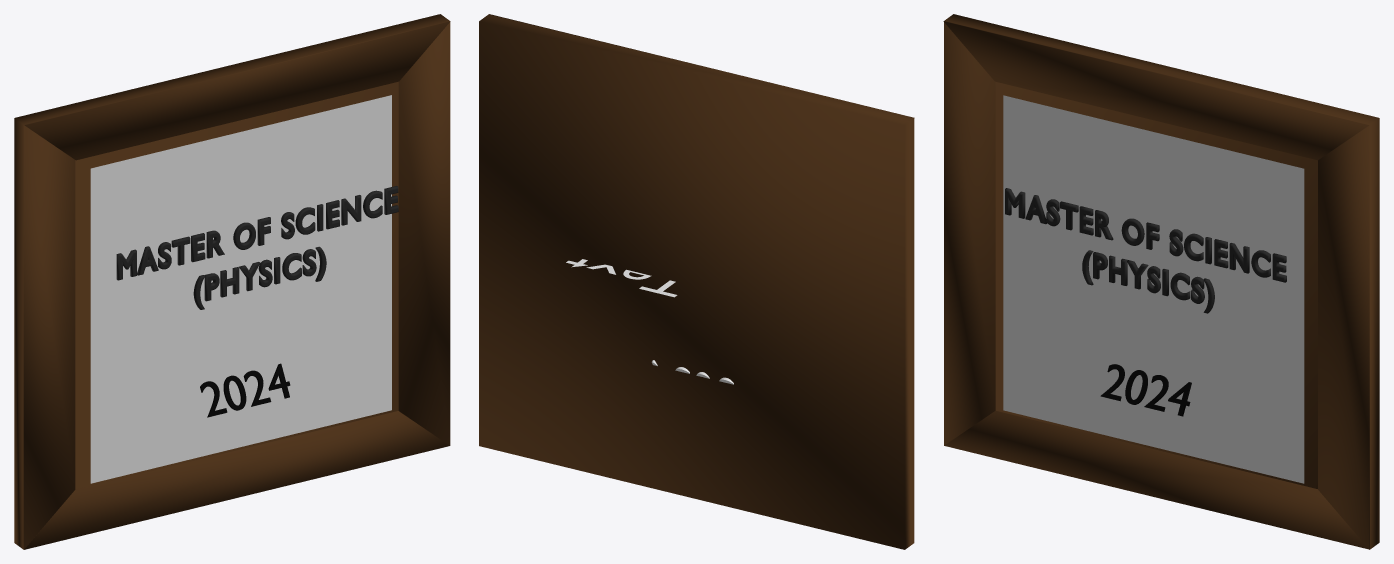
Rendered from degree.glb.
3 views of the same model, side by side, from view 1: azimuth 30°, elevation 25°; view 2: azimuth 150°, elevation 25°; view 3: azimuth 330°, elevation 25° (orthographic).
Visible parts, largest first — view 1: Cube; view 2: Cube, Text.003; view 3: Cube.
Part boxes in pixels (box(x1,y1,x2,y2)): Cube: box(14, 14, 450, 549); Cube: box(479, 14, 914, 549); Text.003: box(566, 259, 677, 297); Cube: box(943, 14, 1379, 549).
Bounding box in the file's own units: 6.81 × 6.49 × 1.19.
